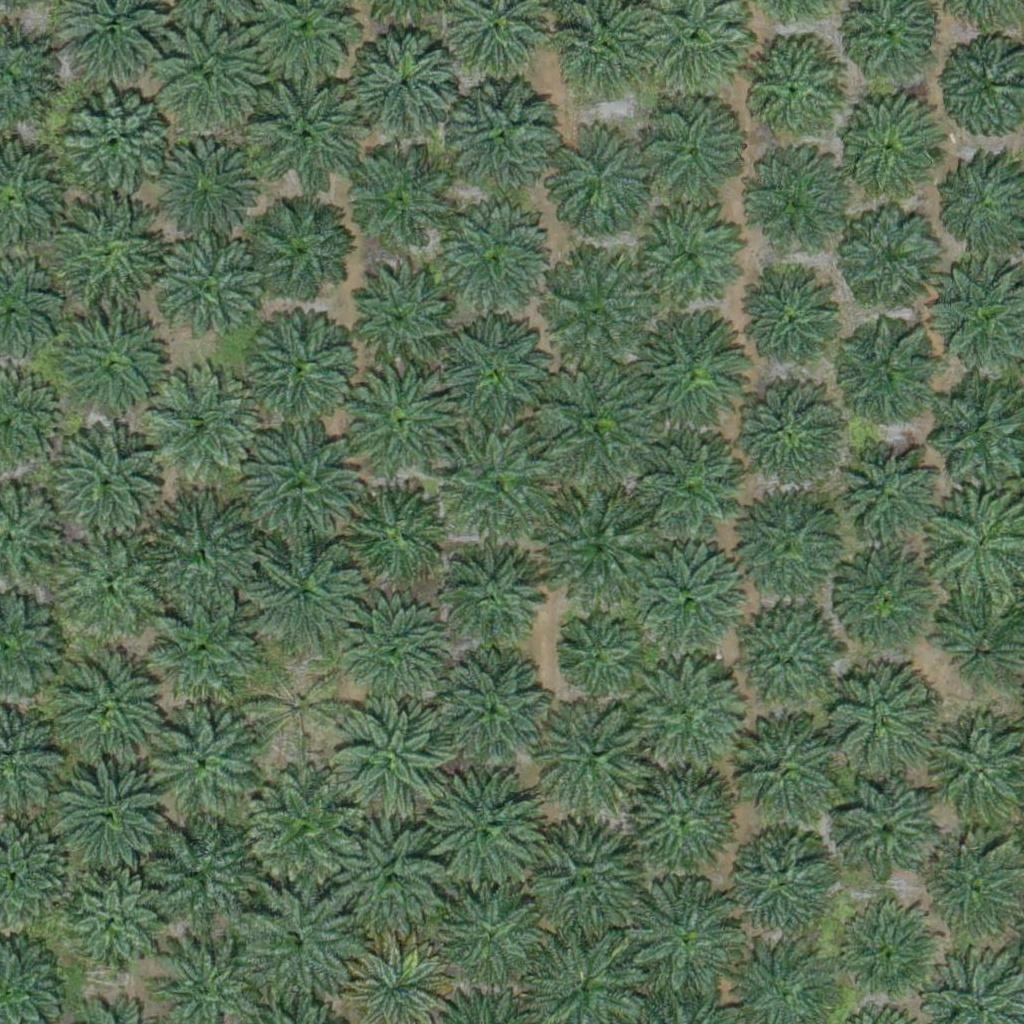Kelapa_Sawit: (44, 196, 169, 322), (54, 306, 179, 432), (623, 431, 748, 557), (537, 488, 662, 614), (39, 414, 164, 540), (637, 201, 750, 315), (541, 123, 654, 237), (630, 314, 743, 428), (632, 766, 745, 880), (538, 700, 651, 814), (624, 881, 737, 995), (342, 363, 455, 477), (437, 653, 550, 767), (152, 26, 265, 139), (538, 258, 651, 371), (351, 263, 464, 376), (244, 309, 357, 422), (250, 84, 363, 197), (146, 129, 259, 242), (829, 549, 942, 662), (824, 671, 937, 784), (731, 379, 844, 492), (732, 492, 845, 605), (524, 825, 637, 938), (425, 770, 538, 883), (55, 525, 168, 638), (142, 818, 255, 931), (150, 710, 263, 823), (146, 593, 259, 706), (140, 495, 253, 608), (246, 771, 359, 884), (440, 423, 553, 536), (242, 889, 355, 1002), (635, 90, 747, 204), (447, 78, 559, 192), (146, 364, 258, 478), (246, 424, 358, 538), (341, 601, 453, 715), (740, 39, 852, 152), (350, 34, 462, 147), (734, 148, 846, 261), (342, 151, 454, 264), (438, 212, 550, 325), (442, 314, 554, 427), (155, 238, 267, 351), (61, 87, 173, 200), (730, 610, 842, 723), (727, 718, 839, 831), (631, 546, 743, 659), (630, 657, 742, 770), (539, 368, 651, 481), (437, 880, 549, 993), (58, 649, 170, 762), (54, 756, 166, 869), (248, 536, 360, 649), (333, 820, 445, 933), (334, 698, 446, 811), (249, 658, 349, 759), (837, 94, 937, 195), (843, 204, 943, 305), (252, 201, 352, 302), (832, 326, 932, 427), (843, 443, 943, 544), (834, 777, 934, 878), (66, 876, 166, 977), (745, 275, 845, 375), (729, 831, 829, 931), (834, 903, 934, 1003), (344, 485, 444, 585), (443, 543, 543, 643), (557, 619, 632, 695), (560, 10, 635, 85)
